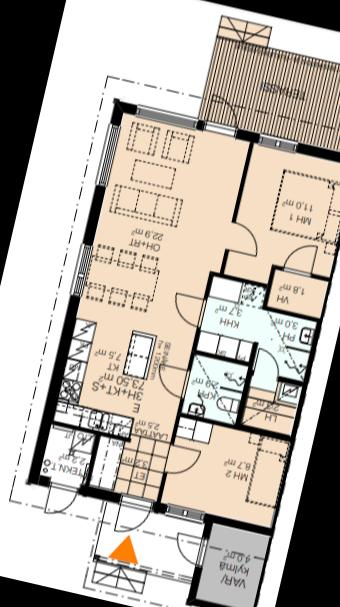door: (109, 490, 159, 540), (219, 216, 268, 262), (201, 90, 244, 138), (164, 288, 212, 330), (150, 359, 195, 403), (278, 238, 322, 282), (168, 527, 211, 569), (161, 440, 203, 482), (42, 478, 83, 520), (250, 344, 286, 384)
window: (130, 98, 202, 136), (64, 238, 100, 304), (92, 119, 125, 191), (252, 128, 302, 156), (162, 500, 207, 526)
